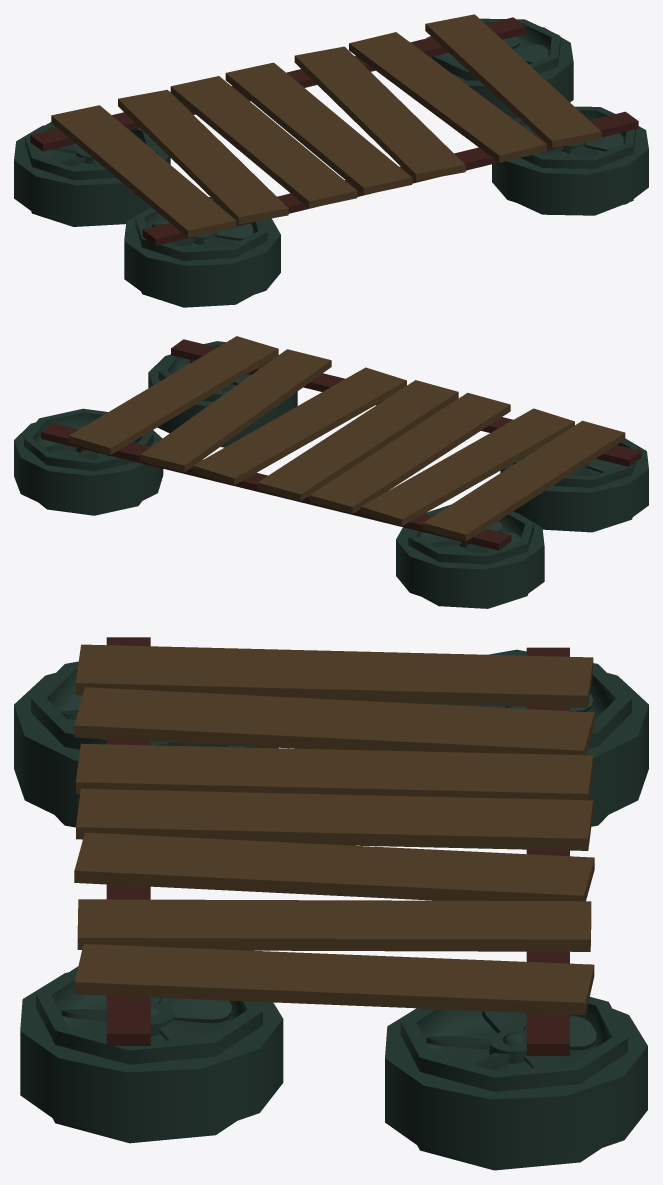
The model's file is Platform02.fbx.
3 renders of one model, top to bottom at view 1: azimuth 30°, elevation 25°; view 2: azimuth 150°, elevation 25°; view 3: azimuth 270°, elevation 25°, orthographic. The views are drawn at different scales.
Parts seen in each view (by area): view 1: Cylinder009, Cylinder011, Box016, Cylinder010, Box019, Box018, Box021, Box015, Box017, Box020, Cylinder012, Box013 (+1 smaller); view 2: Cylinder010, Cylinder012, Box017, Box015, Box020, Box021, Box019, Box018, Box016, Cylinder009, Box014, Cylinder011 (+1 smaller); view 3: Cylinder012, Cylinder011, Box015, Box017, Box016, Box018, Box020, Box021, Box019, Cylinder009, Cylinder010, Box013 (+1 smaller).
Boxes of the visible parts, <box> form: Cylinder009: <box>124,197,280,307</box>; Cylinder011: <box>492,106,648,215</box>; Box016: <box>349,32,546,162</box>; Cylinder010: <box>14,122,170,226</box>; Box019: <box>170,76,357,208</box>; Box018: <box>225,62,412,194</box>; Box021: <box>51,105,236,237</box>; Box015: <box>425,14,601,148</box>; Box017: <box>294,46,465,181</box>; Box020: <box>118,89,288,224</box>; Cylinder012: <box>426,18,573,119</box>; Box013: <box>142,111,638,246</box>; Cylinder010: <box>396,504,544,608</box>; Cylinder012: <box>14,408,163,515</box>; Box017: <box>193,367,406,485</box>; Box015: <box>68,336,278,454</box>; Box020: <box>360,408,574,526</box>; Box021: <box>423,420,625,541</box>; Box019: <box>309,392,510,513</box>; Box018: <box>257,380,458,501</box>; Box016: <box>140,349,331,472</box>; Cylinder009: <box>500,438,648,532</box>; Box014: <box>41,423,511,550</box>; Cylinder011: <box>148,341,297,447</box>; Cylinder012: <box>385,997,647,1170</box>; Cylinder011: <box>20,966,283,1143</box>; Box015: <box>74,944,594,1014</box>; Box017: <box>74,832,594,901</box>; Box016: <box>77,899,591,951</box>; Box018: <box>76,788,593,850</box>; Box020: <box>74,687,594,755</box>; Box021: <box>75,644,593,707</box>; Box019: <box>76,743,593,800</box>; Cylinder009: <box>14,661,278,827</box>; Cylinder010: <box>428,649,648,826</box>; Box013: <box>106,637,150,1045</box>.
Size of the model in its own units: 90.58 by 11.45 by 55.09.
